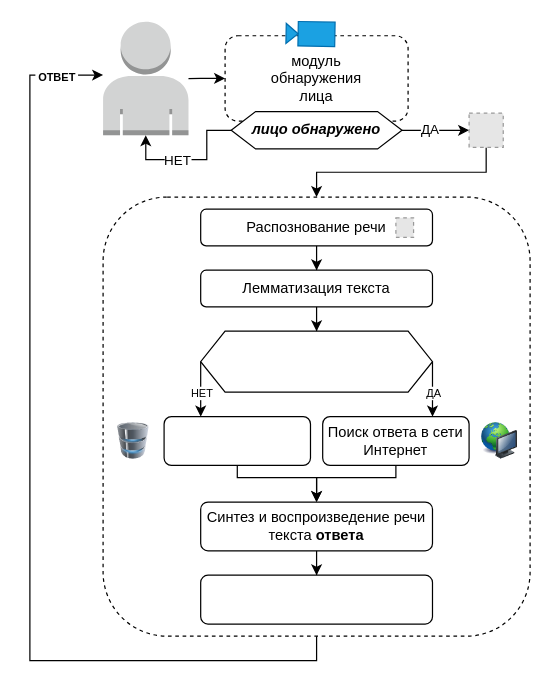
The diagram is 551 pixels wide and 693 high, and some of its shapes have lost their labels. Grey dashed boxes stand in for pictures. Here are the shapes that lost their labels. From the top down, the centre of each, then its label:
At [315,361]: "ЗАПРОС содержит погода | время | новости | музыка".
At [236,440]: "Поиск релевантного ответа в БД".
At [315,599]: "Визуальное сопровождение 3D анимации персонажа".
